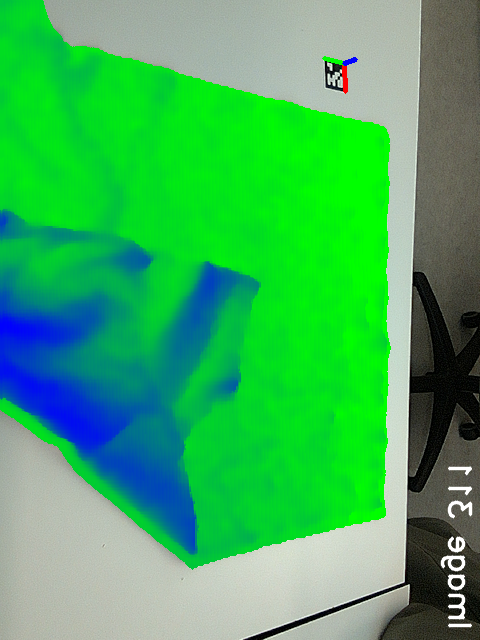V: (230, 258, 291, 322)
